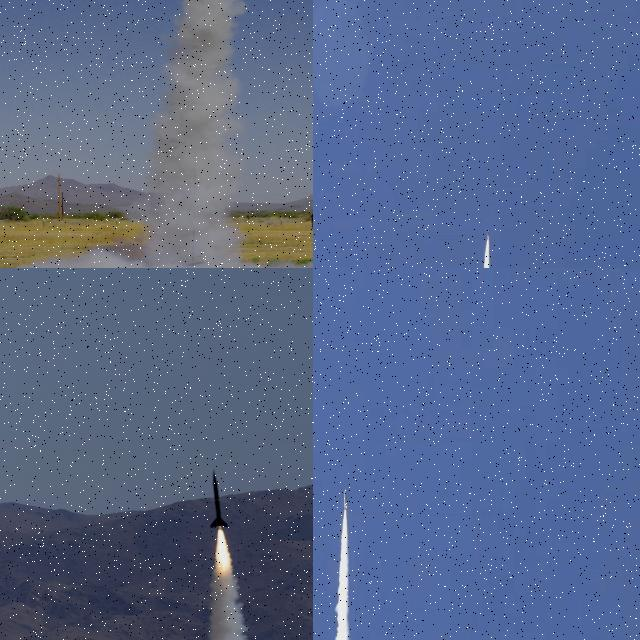Rocket: (209, 468, 229, 528), (343, 488, 347, 512), (487, 230, 490, 242)
